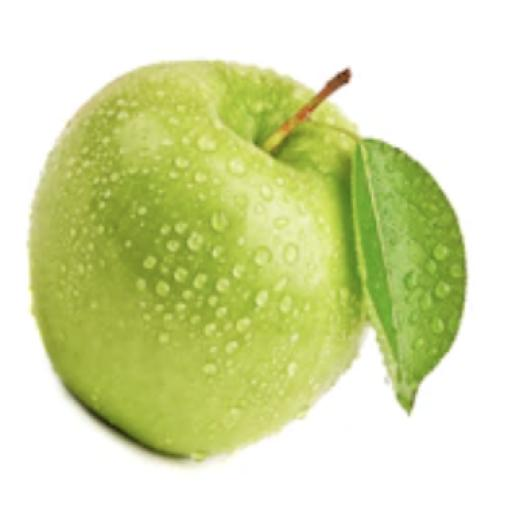apple: (30, 63, 363, 456)
